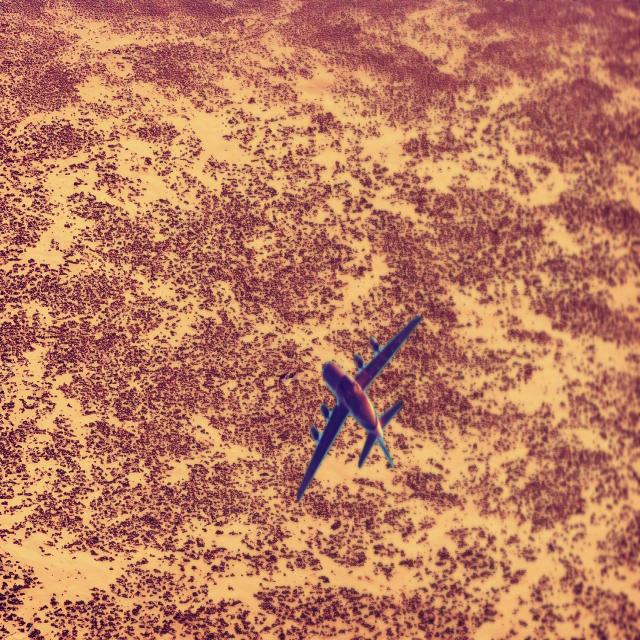airplane: (296, 314, 422, 503)
